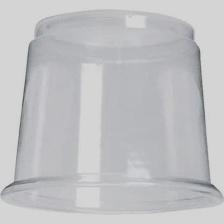glass: (0, 6, 224, 219)
